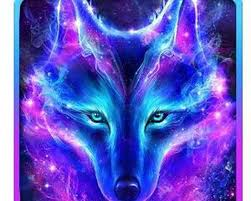Lobo: (30, 1, 194, 199)
